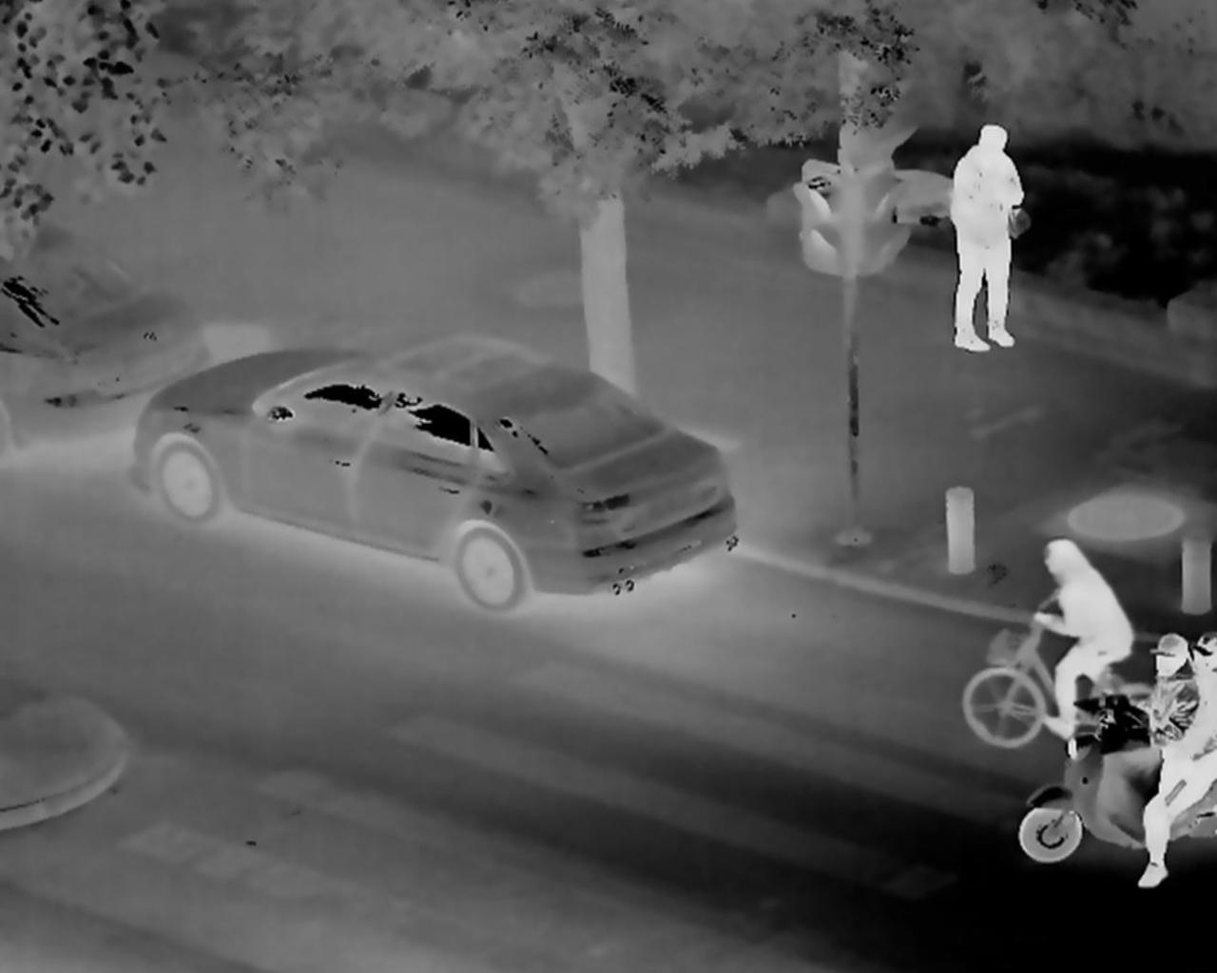person: (924, 121, 1053, 360), (1111, 617, 1217, 898), (1017, 525, 1130, 744)
